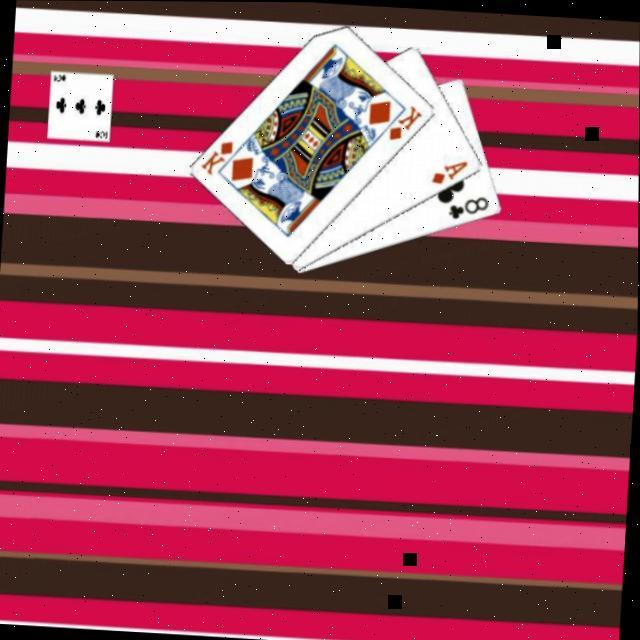8C: (445, 189, 493, 221)
AD: (427, 153, 470, 185)
KD: (385, 98, 425, 142), (196, 133, 235, 177)
